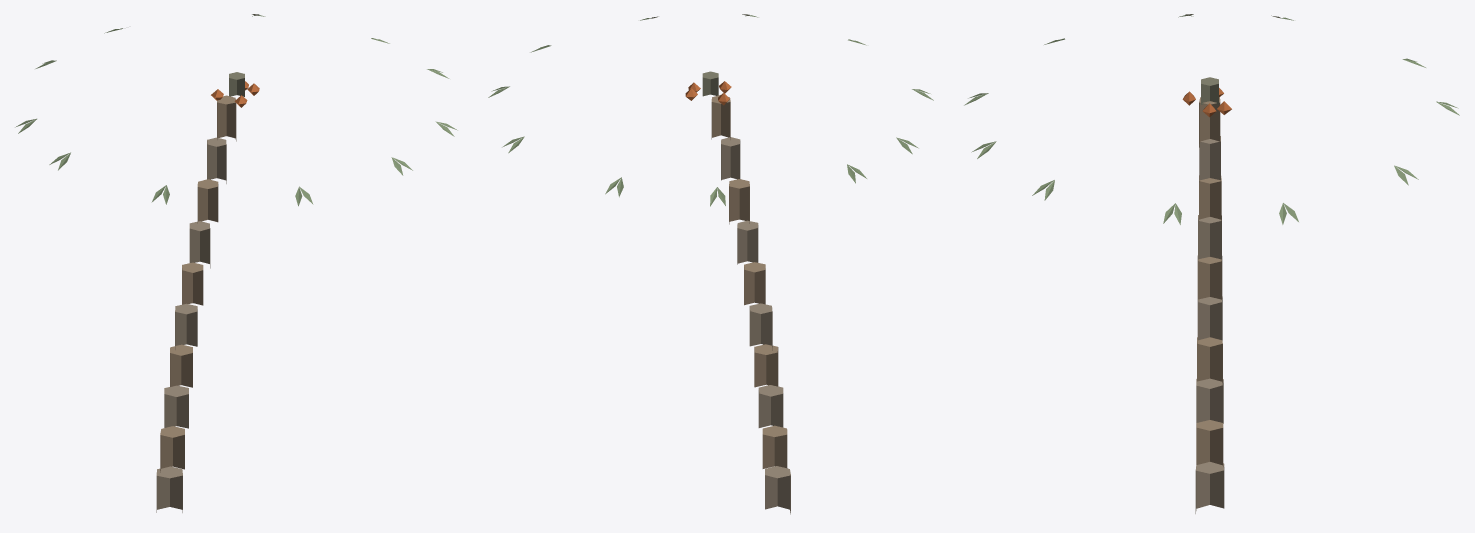
The model's file is shu.yezi__winter.glb.
The picture shows the model from 3 angles, left to right: view 1: azimuth 30°, elevation 25°; view 2: azimuth 150°, elevation 25°; view 3: azimuth 270°, elevation 25°; orthographic projection. The views are drawn at different scales.
Visible parts, largest first — view 1: shu.yezi__winter; view 2: shu.yezi__winter; view 3: shu.yezi__winter.
Part boxes in pixels (left/top/right/bottom): shu.yezi__winter: left=15, top=14, right=457, bottom=512; shu.yezi__winter: left=488, top=14, right=933, bottom=514; shu.yezi__winter: left=964, top=14, right=1459, bottom=513.
Size of the model in its own units: 11.27 by 11.78 by 11.23.
